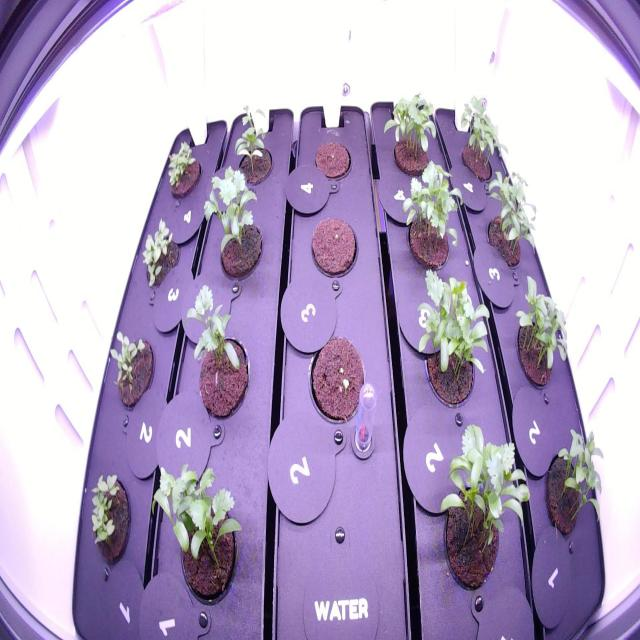germination: (303, 327, 369, 433), (100, 320, 158, 420), (85, 464, 135, 572), (136, 210, 183, 297), (158, 133, 205, 204)
pod: (306, 209, 361, 285), (308, 133, 357, 184)
